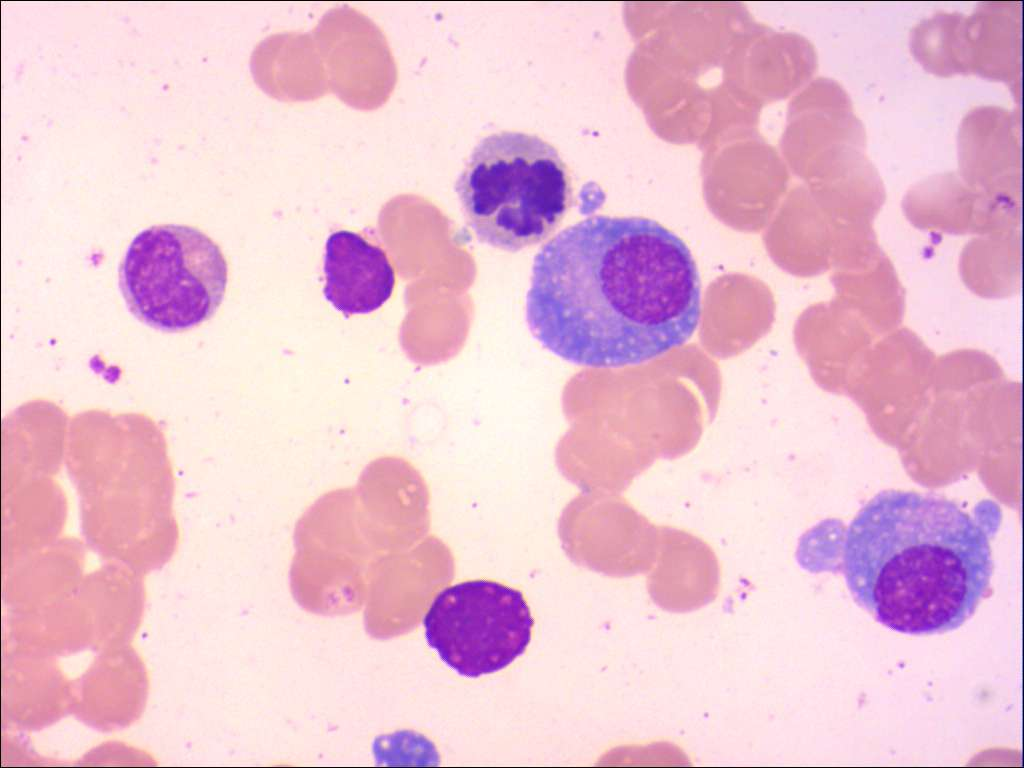32: (317, 225, 398, 319)
4: (115, 221, 231, 339)
51: (790, 485, 1006, 639), (521, 210, 705, 372)
x: (448, 127, 576, 253), (420, 576, 538, 685)
